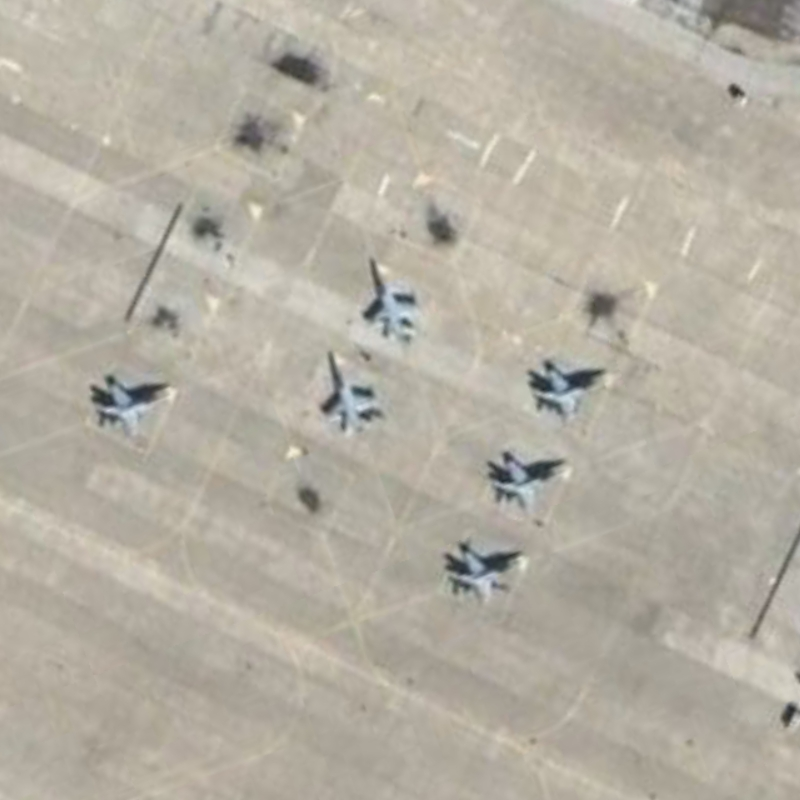A16: (316, 342, 387, 444), (86, 366, 181, 442), (354, 251, 428, 346), (445, 535, 537, 608), (526, 356, 612, 426), (482, 449, 571, 516)
